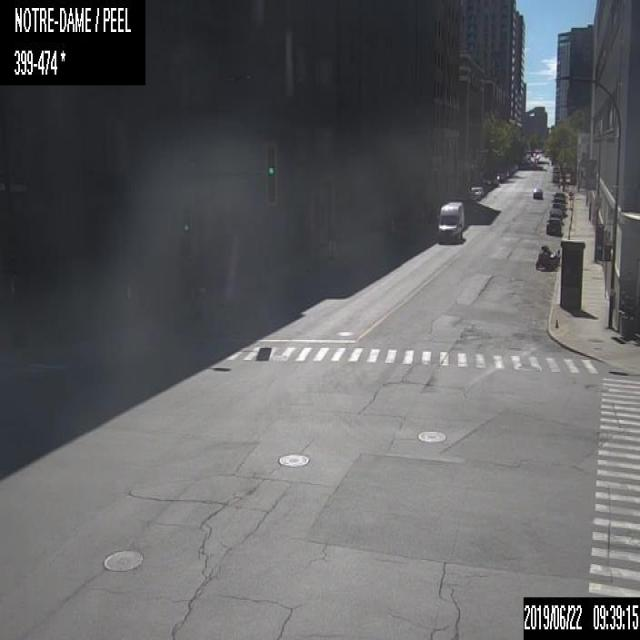vehicle: (436, 197, 464, 239), (534, 244, 560, 270), (546, 217, 560, 235), (550, 196, 566, 210), (469, 184, 484, 198), (548, 208, 562, 222), (532, 185, 543, 198), (552, 191, 566, 201), (552, 172, 558, 181)
